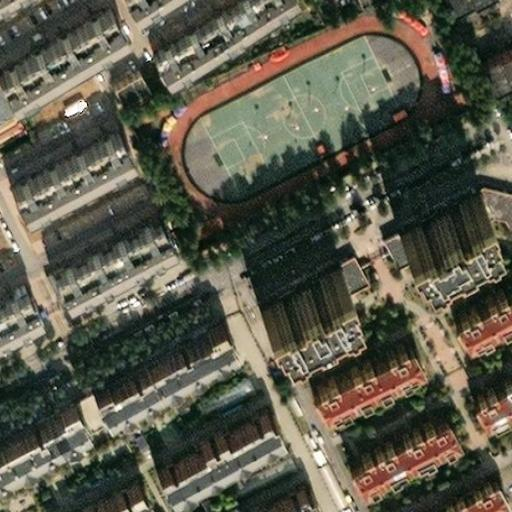building: (81, 313, 230, 415), (149, 399, 274, 483), (36, 201, 160, 285), (0, 109, 117, 195), (299, 327, 409, 408), (338, 402, 447, 482), (389, 178, 477, 249), (247, 256, 336, 326), (0, 393, 77, 466), (389, 460, 496, 512), (38, 465, 142, 512), (219, 471, 311, 512), (459, 37, 512, 85), (96, 49, 138, 86), (60, 382, 96, 425), (0, 276, 30, 318)
